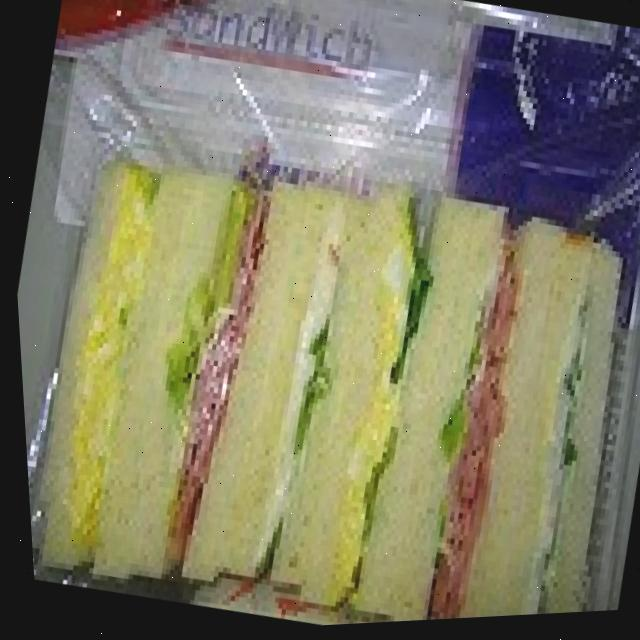三明治: (7, 116, 640, 640)
